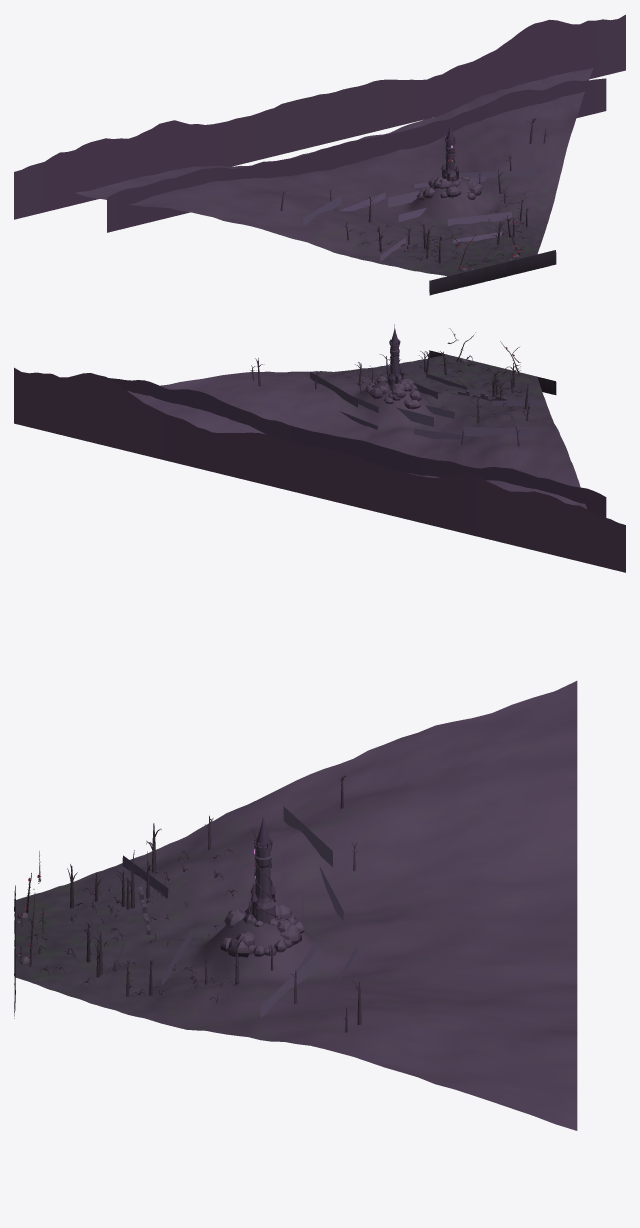
Rendered from backdrop_5.glb.
3 views of the same model, one above another, from view 1: azimuth 30°, elevation 25°; view 2: azimuth 150°, elevation 25°; view 3: azimuth 270°, elevation 25° (orthographic). The views are drawn at different scales.
Visible parts, largest first — view 1: far_ridges, mid_ground, mid_mist, fg_bank, mid_deadtrees, lm_crag, mid_brambles, lm_tower; view 2: far_ridges, mid_ground, mid_mist, mid_deadtrees, lm_crag, lm_tower, mid_brambles; view 3: mid_ground, mid_mist, mid_deadtrees, lm_crag, lm_tower, mid_brambles.
Boxes of the visible parts, x1,y1,x2,y2 form: far_ridges: (14,14,625,232); mid_ground: (75,68,592,276); mid_mist: (303,169,536,261); fg_bank: (429,250,556,295); mid_deadtrees: (277,117,549,263); lm_crag: (416,176,482,200); mid_brambles: (349,189,532,266); lm_tower: (441,125,459,182); far_ridges: (14,367,625,572); mid_ground: (127,355,586,508); mid_mist: (310,371,544,439); mid_deadtrees: (250,351,531,446); lm_crag: (366,376,421,409); lm_tower: (387,324,403,387); mid_brambles: (338,360,532,420); mid_ground: (15,681,577,1130); mid_mist: (115,806,357,1017); mid_deadtrees: (67,773,362,1032); lm_crag: (220,903,304,957); lm_tower: (250,817,275,923); mid_brambles: (27,849,242,1009).
Bounding box in the file's own units: 386 × 60.55 × 189.
